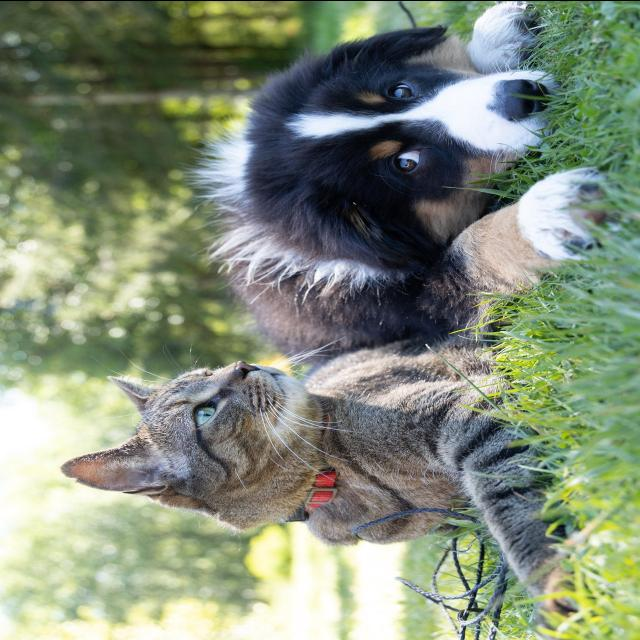cat: (57, 335, 605, 637)
dog: (203, 0, 605, 354)
